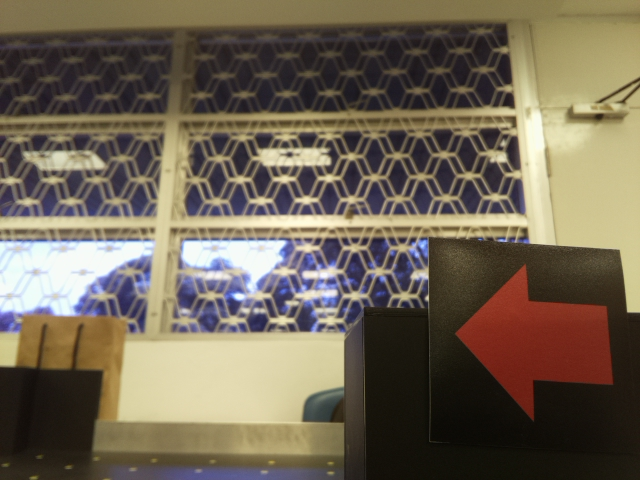left: (443, 251, 618, 432)
